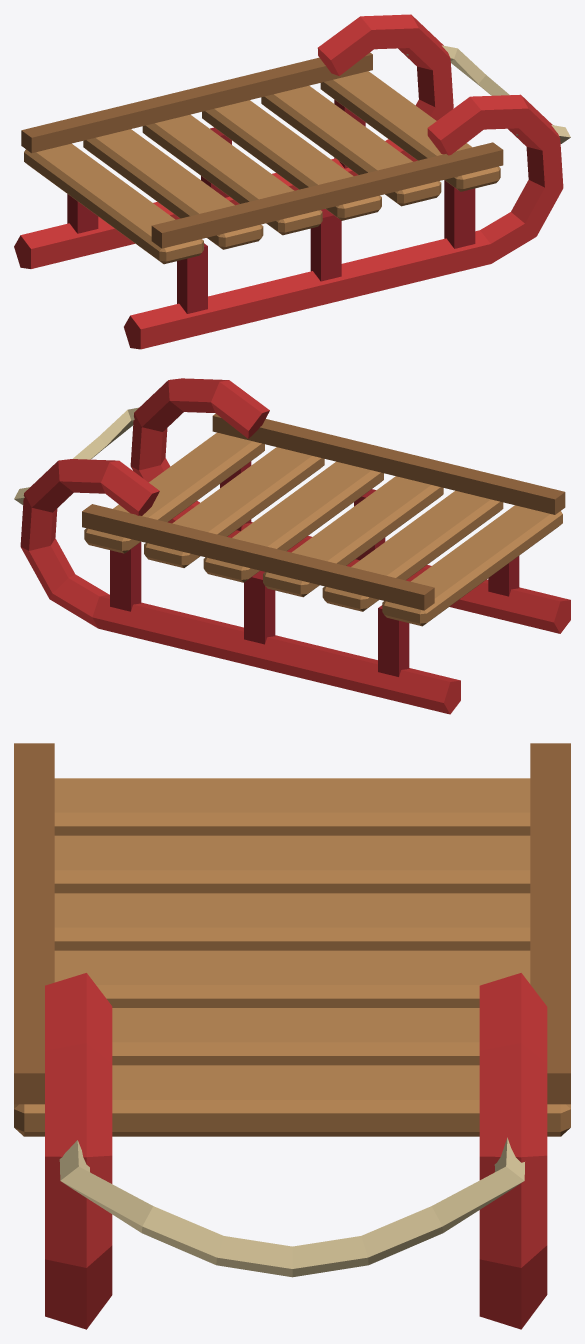
The model's file is habitat_prop_snow_bunny.fbx.
3 renders of one model, top to bottom at view 1: azimuth 30°, elevation 25°; view 2: azimuth 150°, elevation 25°; view 3: azimuth 270°, elevation 25°, orthographic. The views are drawn at different scales.
Parts seen in each view (by area): view 1: habitat_prop_snow_bunny; view 2: habitat_prop_snow_bunny; view 3: habitat_prop_snow_bunny.
Boxes of the visible parts, bbox=[...] form: habitat_prop_snow_bunny: bbox=[14, 14, 570, 349]; habitat_prop_snow_bunny: bbox=[14, 378, 570, 714]; habitat_prop_snow_bunny: bbox=[14, 743, 570, 1329].
Bounding box in the file's own units: 1.55 × 0.5423 × 0.82.
